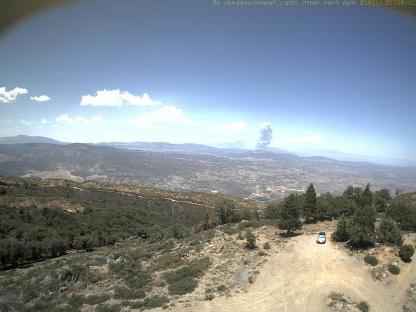smoke: (255, 120, 275, 156)
